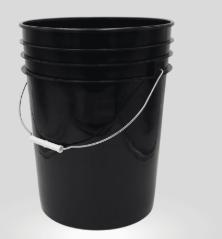SEAU: (10, 14, 203, 239)
